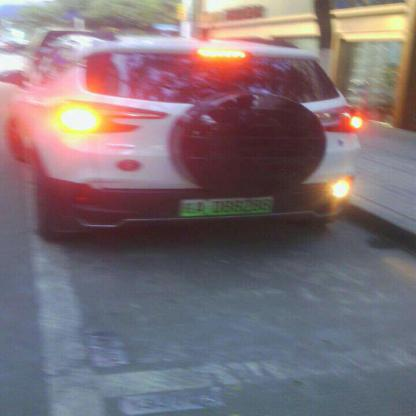lp: (180, 197, 272, 216)
